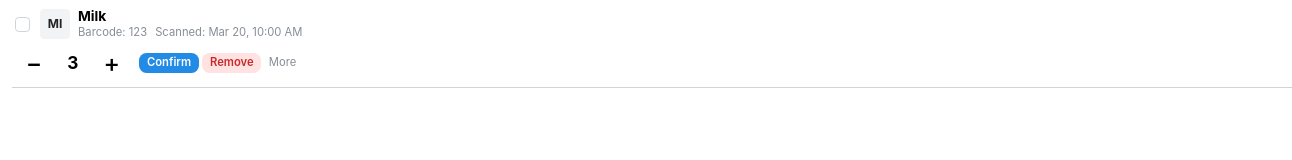
Scenario: ScanEntryCard direct numeric input › rejects invalid value (< 1) client-side with displayed count unchanged
Step 1. Replace the text in the field named "Unit count" with "0" → (73, 63), box [56,41,90,85]
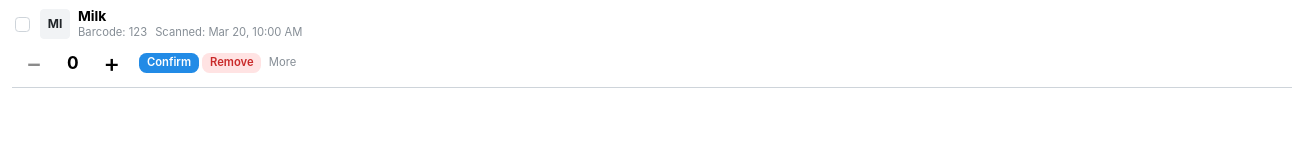
Step 2. Leave the field named "Unit count", box [56,41,90,85]
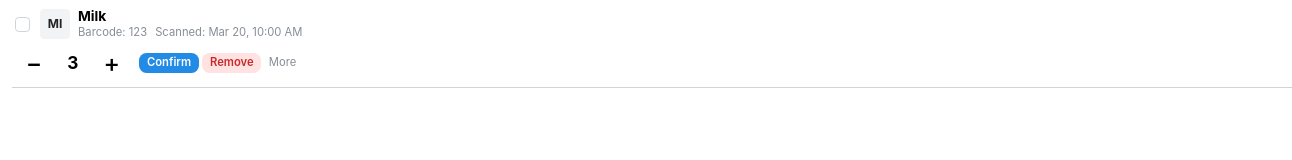
Now the field named "Unit count" holds "3", box [56,41,90,85]
